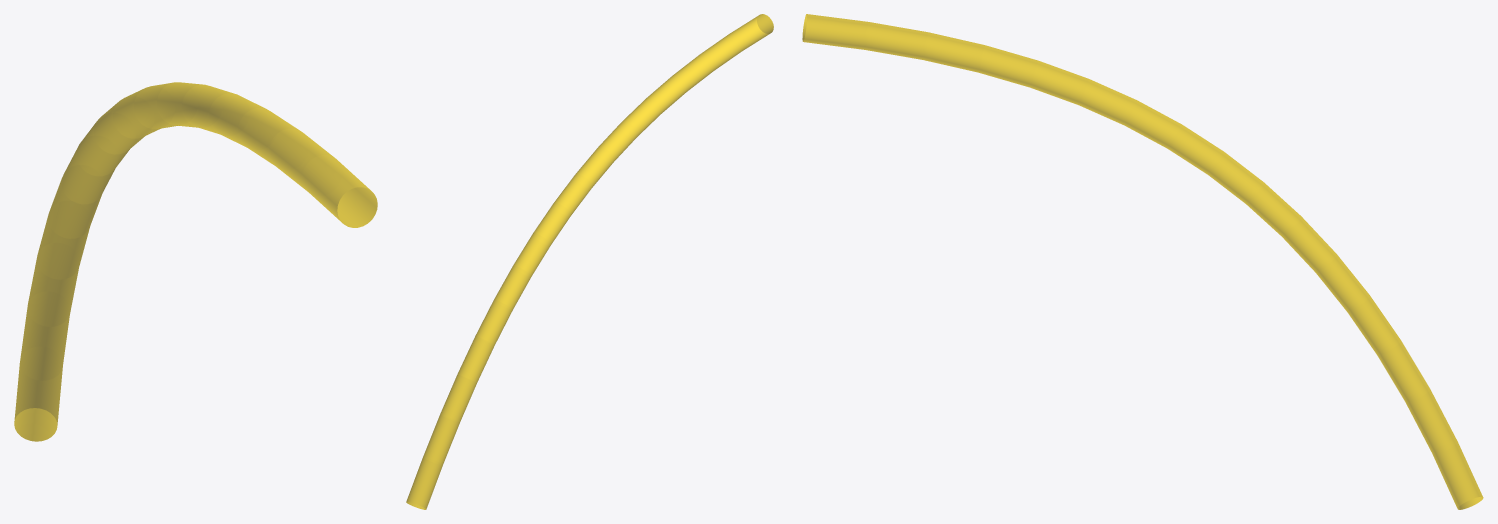
File: Event_100608114_track_125.fbx
3 renders of one model, left to right at view 1: azimuth 30°, elevation 25°; view 2: azimuth 150°, elevation 25°; view 3: azimuth 270°, elevation 25°, orthographic. The views are drawn at different scales.
Parts seen in each view (by area): view 1: Model; view 2: Model; view 3: Model.
Boxes of the visible parts, bbox=[...] form: Model: bbox=[14, 82, 377, 441]; Model: bbox=[406, 14, 773, 509]; Model: bbox=[802, 14, 1483, 509].
Bounding box in the file's own units: 0.2396 × 0.6751 × 0.9605.
